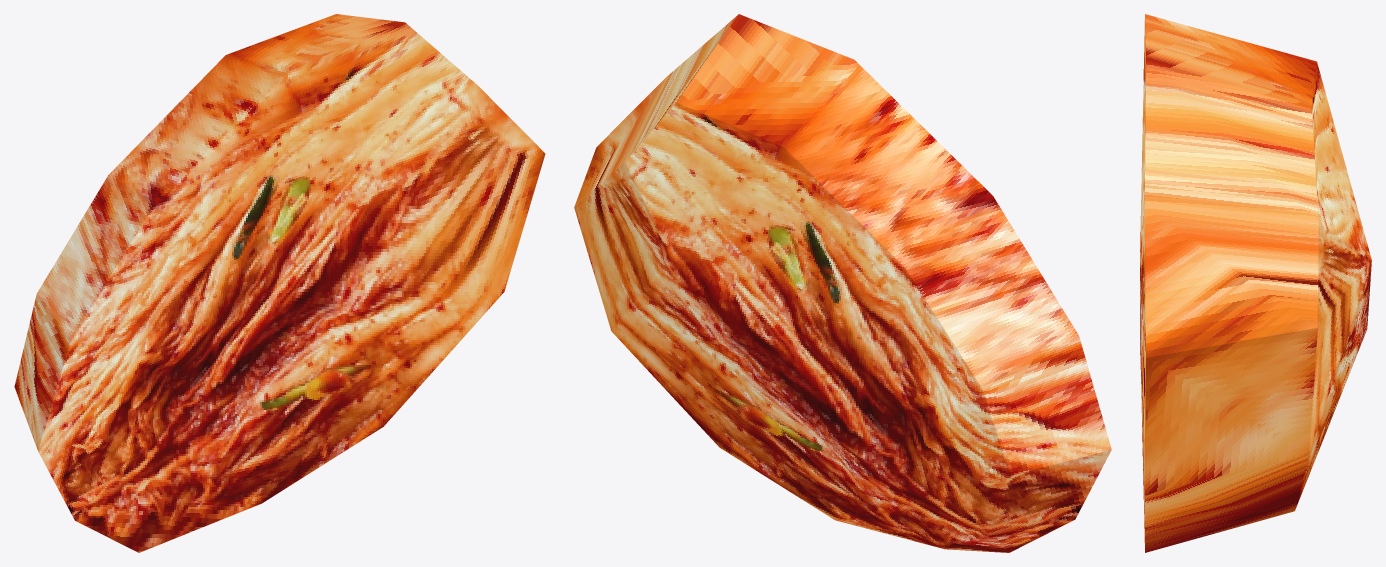
File: kimchi.glb
3 views of the same model, side by side, from view 1: azimuth 30°, elevation 25°; view 2: azimuth 150°, elevation 25°; view 3: azimuth 270°, elevation 25° (orthographic). The views are drawn at different scales.
Parts seen in each view (by area): view 1: kimchi; view 2: kimchi; view 3: kimchi.
Boxes of the visible parts, box(x1,y1,x2,y2) form: kimchi: box(14, 14, 545, 552); kimchi: box(574, 14, 1111, 552); kimchi: box(1140, 14, 1371, 552).
Size of the model in its own units: 0.4004 by 0.3511 by 0.1251.
Materials: 1 (1 with a texture image).
